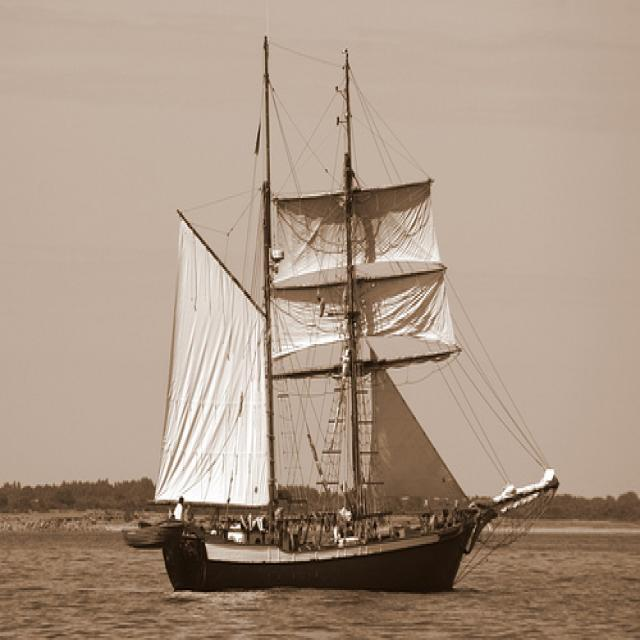Ship: (140, 47, 534, 594)
